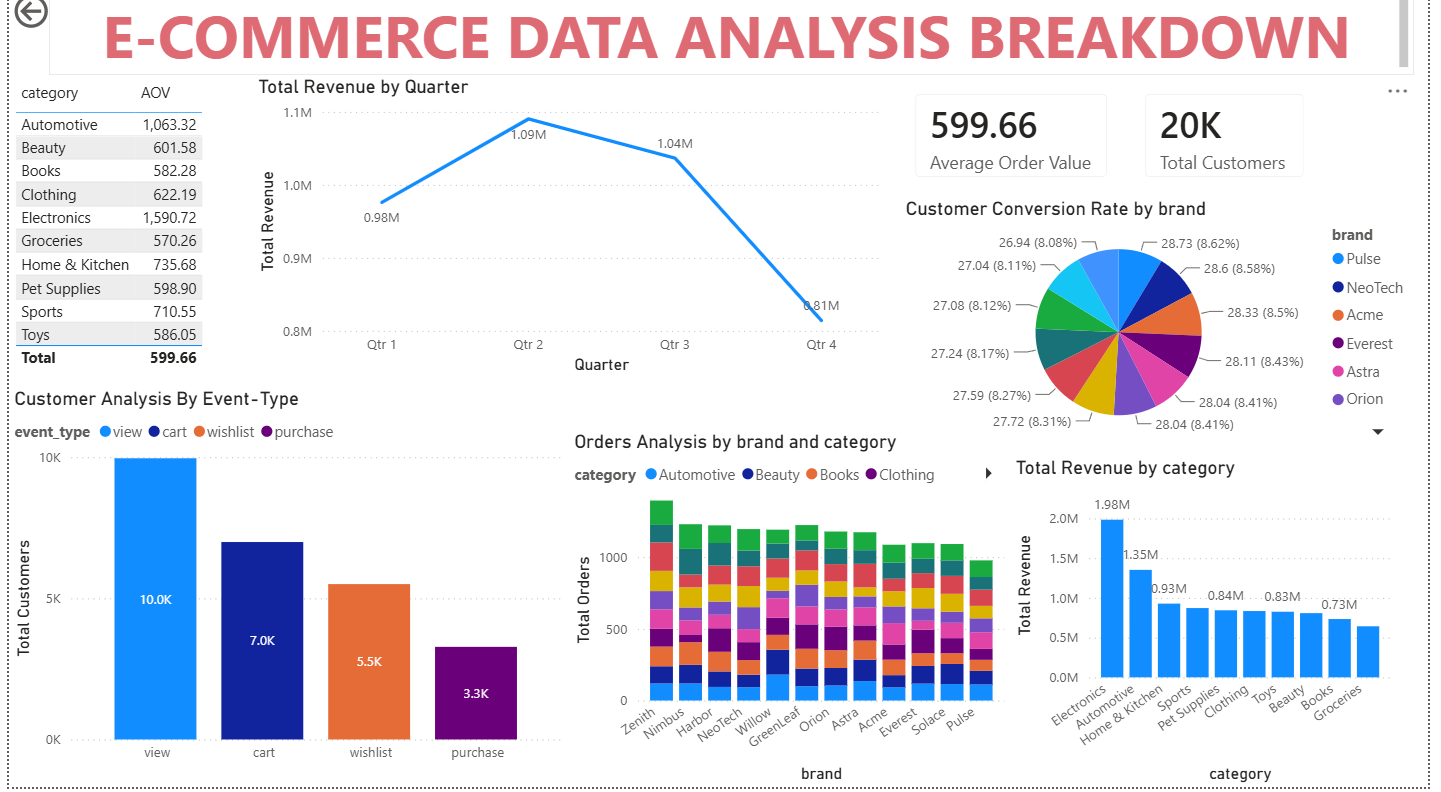

The page's visual inventory and layout, read from the dashboard file:
{"tool":"powerbi","page":{"name":"Page 1","canvas":[1280,720],"ordinal":0},"visuals":[{"type":"columnChart","title":"Customer Analysis By Event-Type","fields":{"Category":["events1.event_type"],"Series":["events1.event_type"],"Y":["orders1.Total Customers"]},"box":[0,359.5,505,360.9],"z":0},{"type":"lineChart","fields":{"Y":["orders1.Total Revenue"],"Category":["orders1.order_date.Variation.Date Hierarchy.Quarter"]},"box":[219.6,78.2,570.8,274.4],"z":1000},{"type":"columnChart","fields":{"Category":["products1.category"],"Y":["orders1.Total Revenue"]},"box":[902.9,421.3,348.5,299.1],"z":2000},{"type":"actionButton","box":[0,0,100,40],"z":3000},{"type":"tableEx","fields":{"Values":["products1.category","orders1.AOV"]},"box":[0,78.2,194.9,279.9],"z":4000},{"type":"pieChart","title":"Customer Conversion Rate by brand","fields":{"Y":["orders1.Conversion Rate"],"Category":["products1.brand"]},"box":[804.1,188,476.2,223.7],"z":5000},{"type":"columnChart","title":"Orders Analysis by brand and category","fields":{"Y":["orders1.Total Orders"],"Category":["products1.brand"],"Series":["products1.category"]},"box":[505,397.9,397.9,322.5],"z":6000},{"type":"textbox","box":[35.7,0,1230.9,78.2],"z":7000},{"type":"cardVisual","title":"Average Ratings of a Product","fields":{"Data":["orders1.AOV"]},"box":[800,78.2,207.2,109.8],"z":8000},{"type":"cardVisual","fields":{"Data":["CountNonNull(orders1.user_id)"]},"box":[1007.2,78.2,177,109.8],"z":9000}]}

Visuals, with their boxes in screenshot pixels (x1, y1, x2, y2), scaled from the page's 1280x720 canvas onto the 1441x792 screenshot:
"Customer Analysis By Event-Type" columnChart: left=0, top=395, right=569, bottom=791
lineChart - orders1.Total Revenue x orders1.order_date.Variation.Date Hierarchy.Quarter: left=247, top=86, right=890, bottom=388
columnChart - products1.category x orders1.Total Revenue: left=1016, top=463, right=1409, bottom=791
actionButton: left=0, top=0, right=113, bottom=44
tableEx - products1.category x orders1.AOV: left=0, top=86, right=219, bottom=394
"Customer Conversion Rate by brand" pieChart: left=905, top=207, right=1440, bottom=453
"Orders Analysis by brand and category" columnChart: left=569, top=438, right=1016, bottom=791
textbox: left=40, top=0, right=1426, bottom=86
"Average Ratings of a Product" cardVisual: left=901, top=86, right=1134, bottom=207
cardVisual - CountNonNull(orders1.user_id): left=1134, top=86, right=1333, bottom=207
